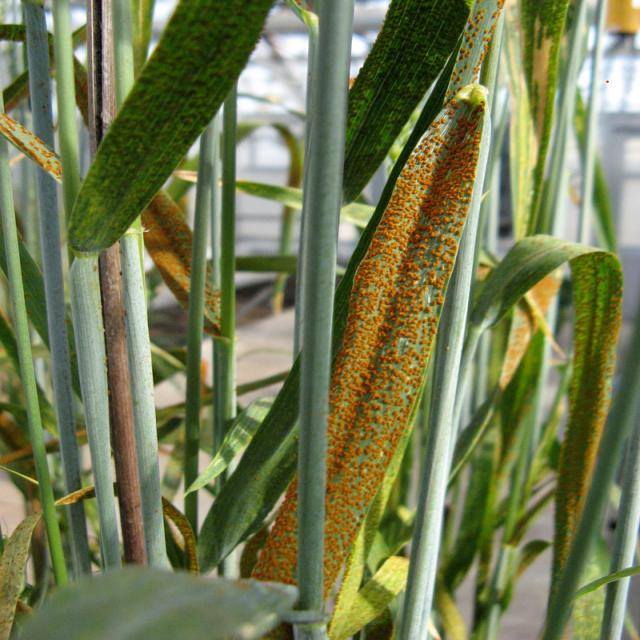leaf rust: (326, 101, 499, 577), (68, 1, 272, 250), (560, 266, 617, 567), (352, 0, 508, 96), (247, 468, 300, 584), (0, 115, 58, 184)
